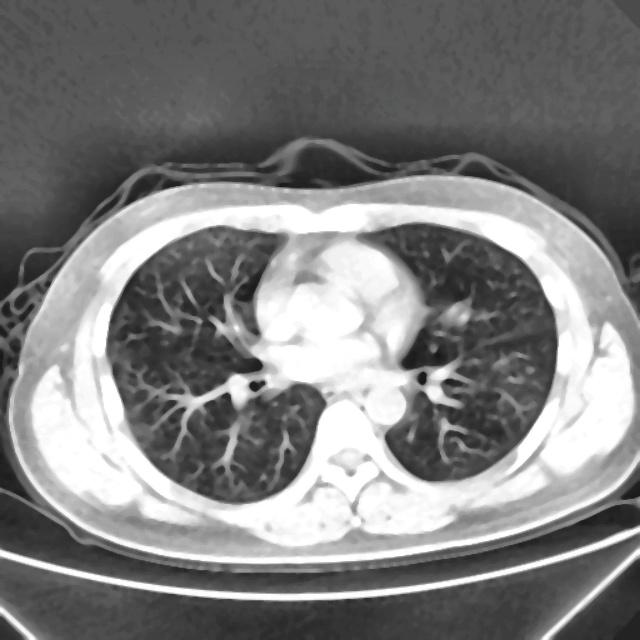covid: (3, 147, 638, 573)
